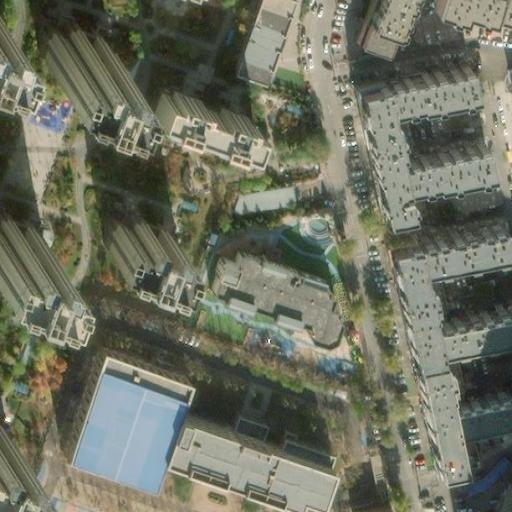building: (54, 338, 180, 480), (151, 405, 321, 500), (202, 248, 336, 347), (352, 71, 405, 211), (151, 73, 255, 133), (385, 230, 434, 350), (409, 345, 455, 458), (22, 15, 98, 76), (92, 205, 167, 266), (394, 130, 483, 181), (410, 212, 502, 261), (427, 293, 512, 345), (379, 52, 471, 95), (453, 449, 512, 503), (442, 375, 512, 419), (225, 179, 285, 211), (348, 497, 395, 512)
